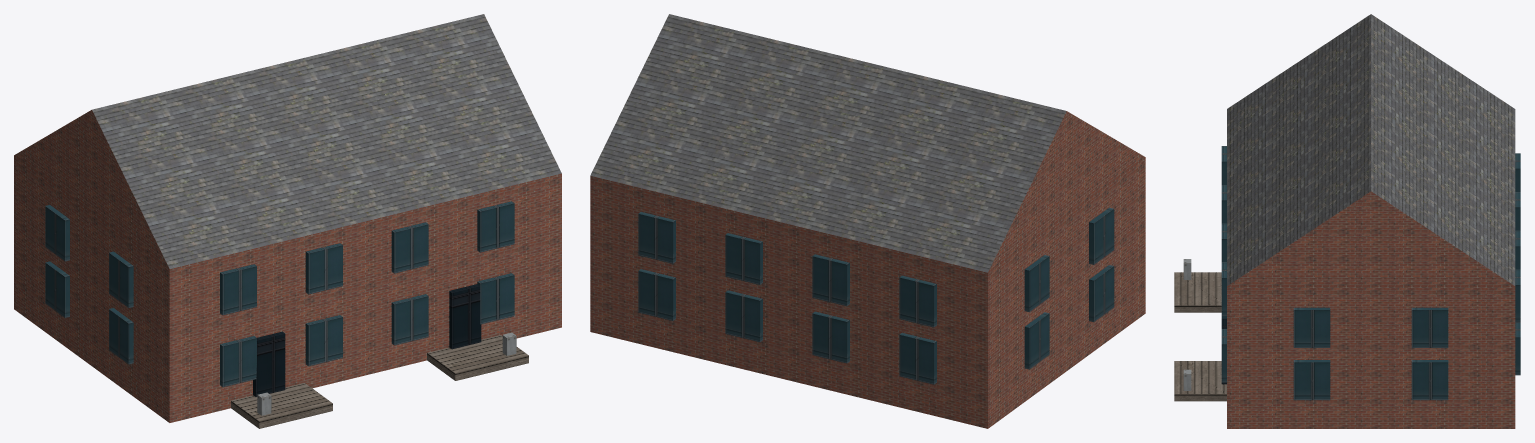
Rendered from duplex_lod0.gltf.
3 views of the same model, side by side, from view 1: azimuth 30°, elevation 25°; view 2: azimuth 150°, elevation 25°; view 3: azimuth 270°, elevation 25° (orthographic). The views are drawn at different scales.
Visible parts, largest first — view 1: duplex_roof, duplex_walls, duplex_fen_07-glass-curtain-blue_0, duplex_gable_ends, duplex_fen_07-glass-curtain-blue_1_t, duplex__porch_b, duplex__porch_a; view 2: duplex_roof, duplex_walls, duplex_fen_07-glass-curtain-blue_0, duplex_gable_ends; view 3: duplex_roof, duplex_walls, duplex_gable_ends, duplex_fen_07-glass-curtain-blue_0, duplex__porch_a, duplex__porch_b.
Part boxes in pixels (x1=…): duplex_roof: x1=92, y1=14, x2=561, y2=268; duplex_walls: x1=14, y1=155, x2=561, y2=422; duplex_fen_07-glass-curtain-blue_0: x1=45, y1=201, x2=514, y2=387; duplex_gable_ends: x1=14, y1=110, x2=169, y2=268; duplex_fen_07-glass-curtain-blue_1_t: x1=253, y1=284, x2=481, y2=396; duplex__porch_b: x1=427, y1=335, x2=528, y2=380; duplex__porch_a: x1=231, y1=382, x2=332, y2=428; duplex_roof: x1=590, y1=14, x2=1066, y2=272; duplex_walls: x1=590, y1=157, x2=1145, y2=428; duplex_fen_07-glass-curtain-blue_0: x1=638, y1=207, x2=1114, y2=384; duplex_gable_ends: x1=988, y1=111, x2=1145, y2=272; duplex_roof: x1=1227, y1=14, x2=1515, y2=285; duplex_walls: x1=1227, y1=286, x2=1515, y2=428; duplex_gable_ends: x1=1227, y1=191, x2=1514, y2=286; duplex_fen_07-glass-curtain-blue_0: x1=1221, y1=146, x2=1520, y2=400; duplex__porch_a: x1=1174, y1=272, x2=1221, y2=312; duplex__porch_b: x1=1174, y1=361, x2=1226, y2=401.
Size of the model in its own units: 16.4 by 10 by 13.2.
